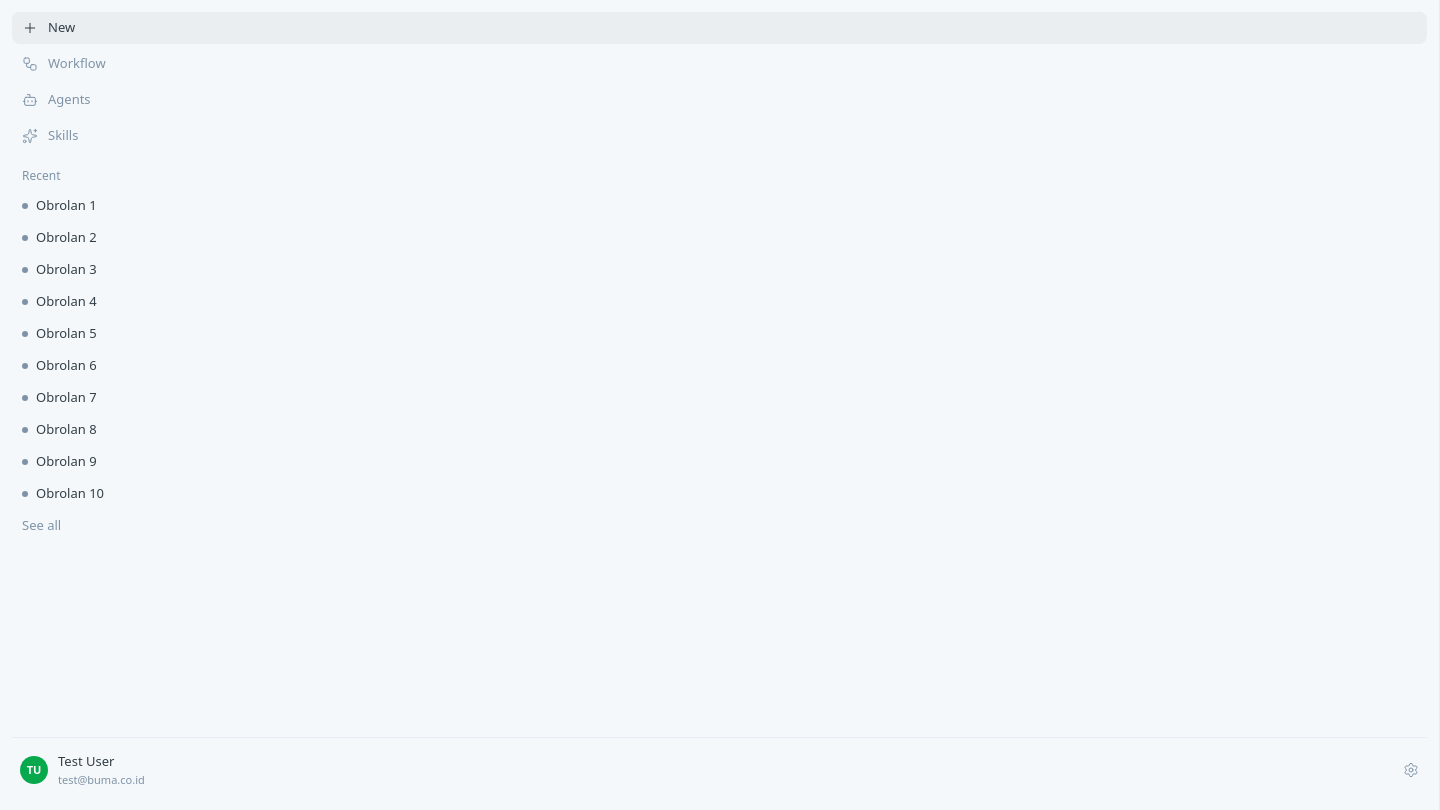
Test: Recent in the sidebar › shows ten, and See all opens a searchable list of every chat
The width and height of the screenshot is (1440, 810).
expect the link "Obrolan 1" is shown: met, box [22, 196, 97, 214]
expect the link "Obrolan 11" is not shown: met
Click the button "See all". click: [42, 525]
box: [12, 512, 1427, 540]
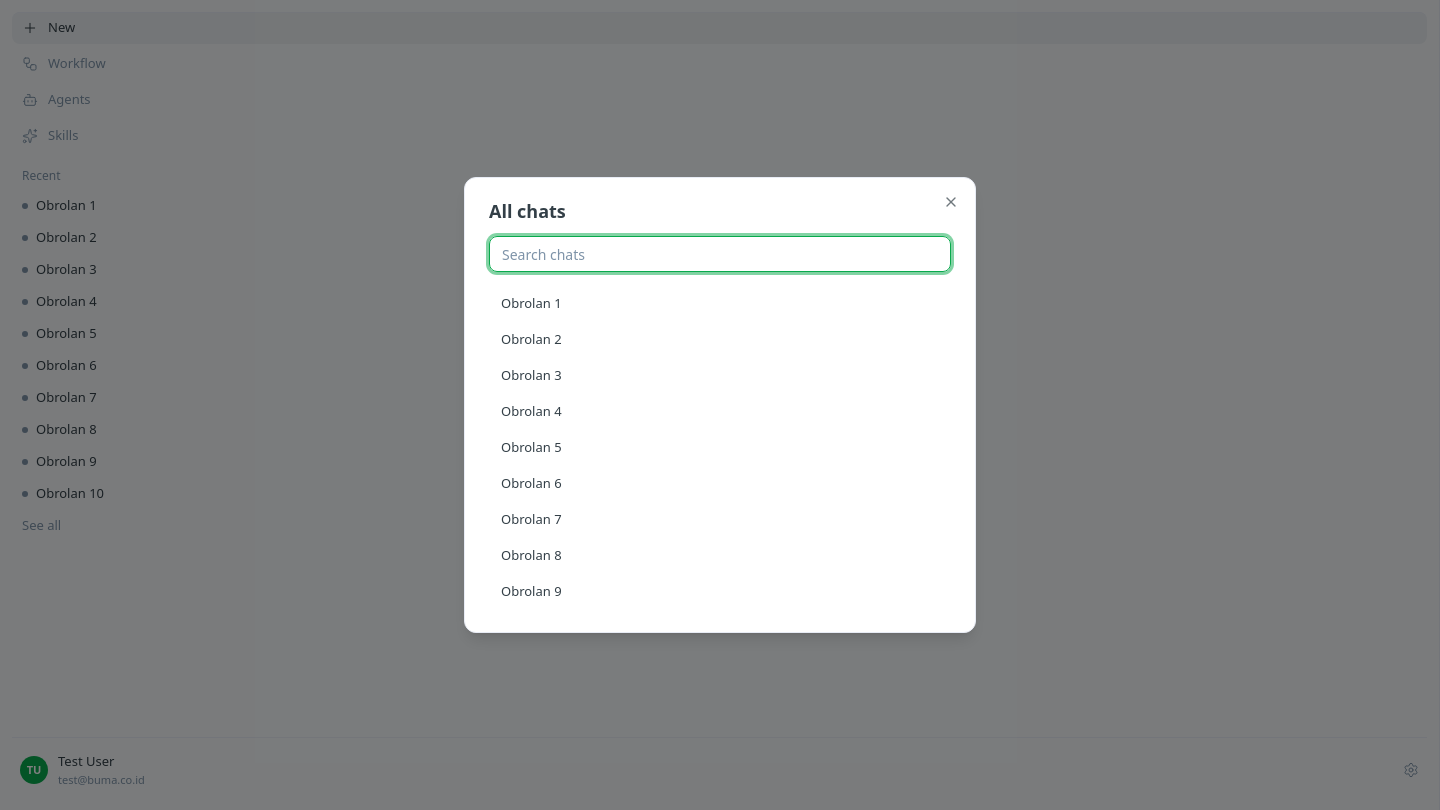
Type "obrolan 11" into the search field labelled "Search chats". click: [720, 254]
box: [489, 236, 951, 272]
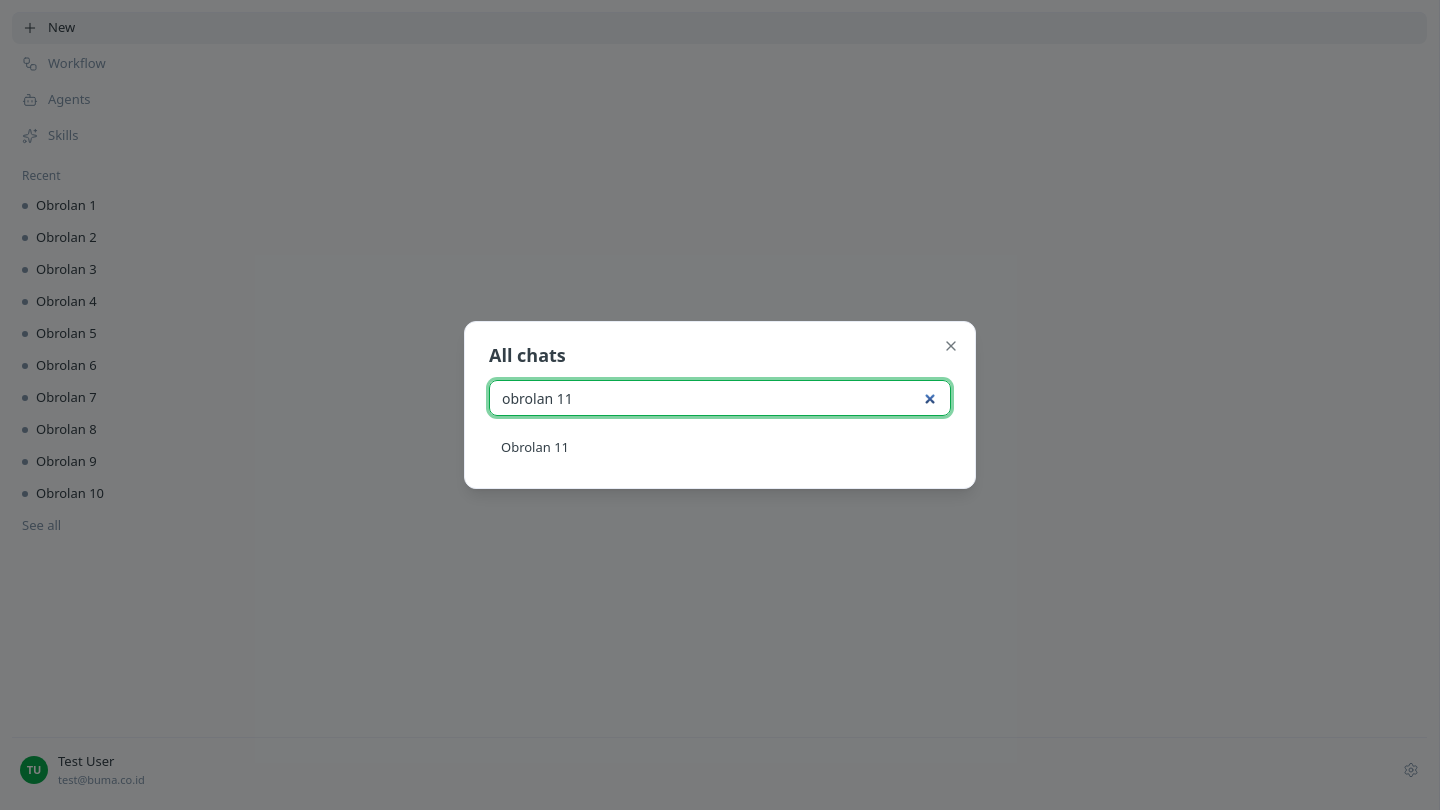
expect the buttons "Obrolan" read "Obrolan 11", in this order: met
Click the button "Obrolan 11". click: [535, 447]
box: [489, 432, 951, 464]
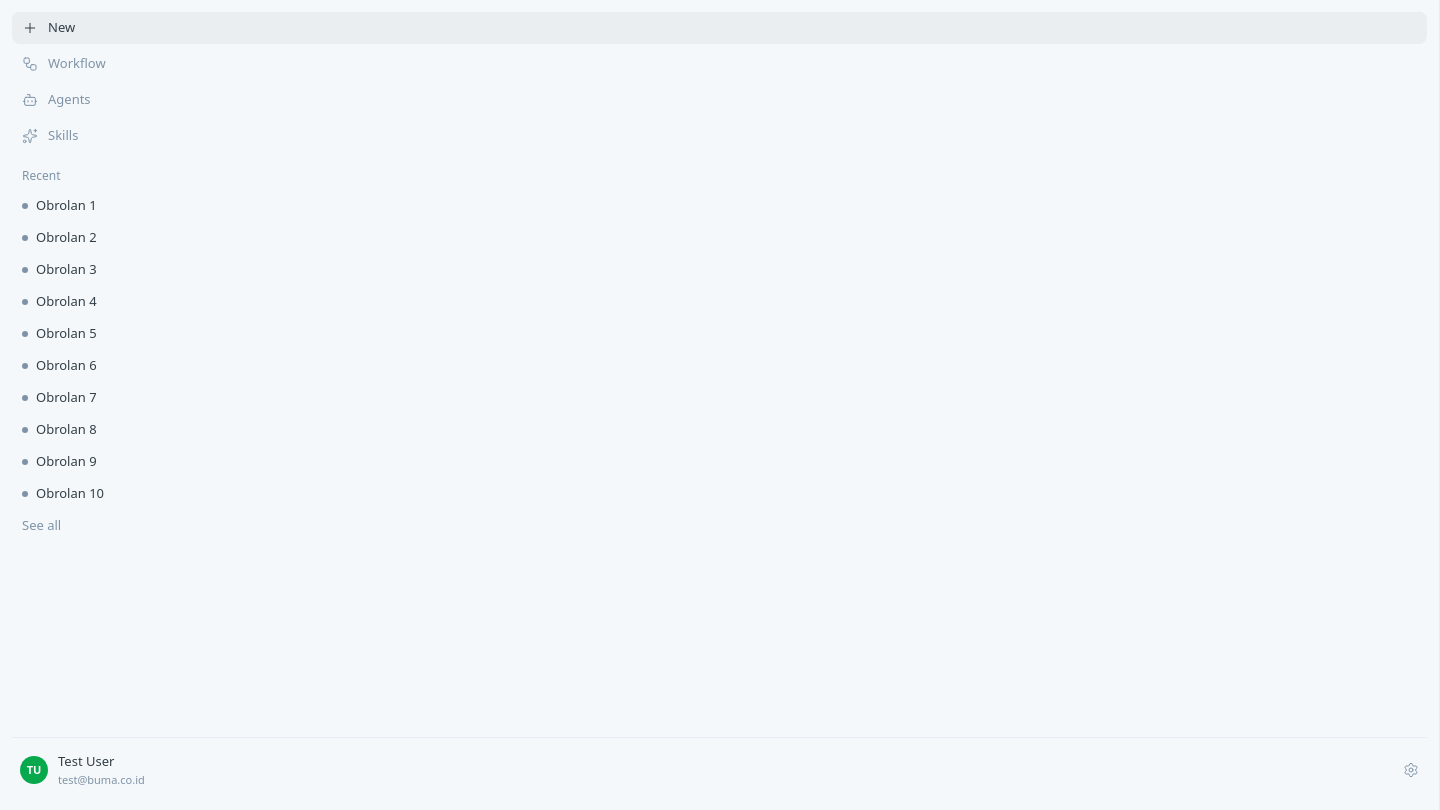
expect the dialog is gone: met
